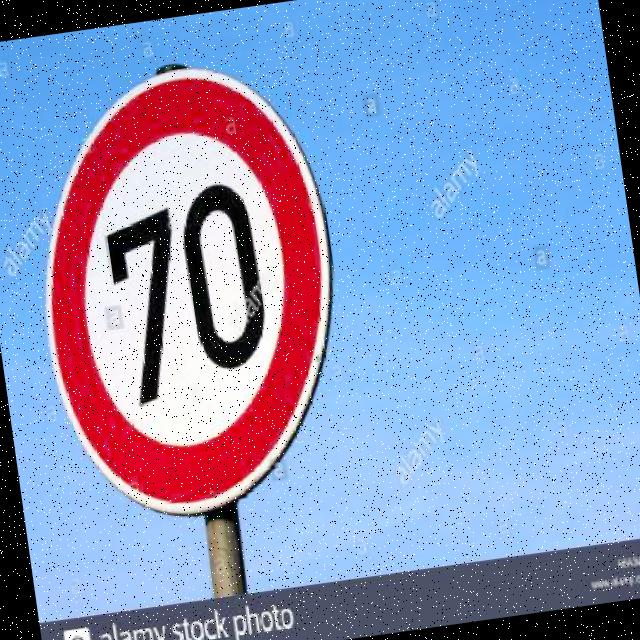Ograniczenie predkosci do 70: (35, 97, 342, 494)
